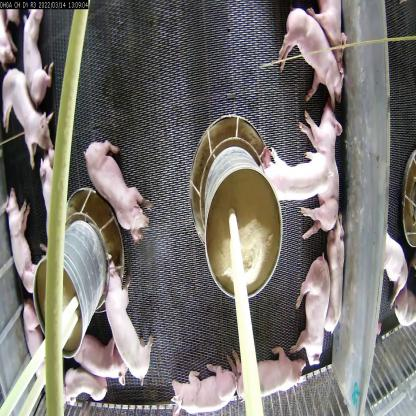Pig: (281, 1, 349, 120), (83, 136, 152, 238), (104, 262, 152, 381), (302, 96, 342, 234), (0, 64, 53, 163), (232, 340, 308, 405), (259, 141, 330, 205), (4, 193, 41, 302), (295, 255, 332, 363), (18, 0, 53, 112), (168, 366, 242, 416), (320, 209, 350, 332), (30, 145, 72, 232), (71, 330, 133, 380), (56, 365, 107, 405)
